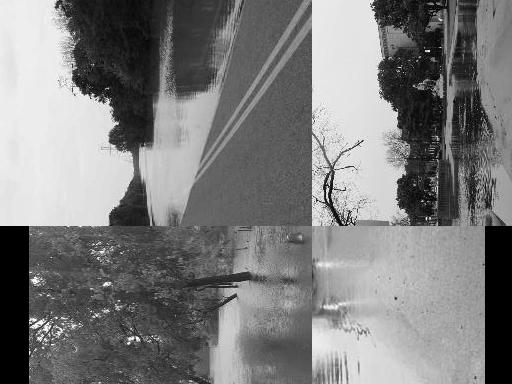road_waterlogging: (151, 0, 224, 89), (134, 113, 188, 217), (442, 146, 501, 226), (449, 0, 480, 138), (312, 323, 367, 384)
